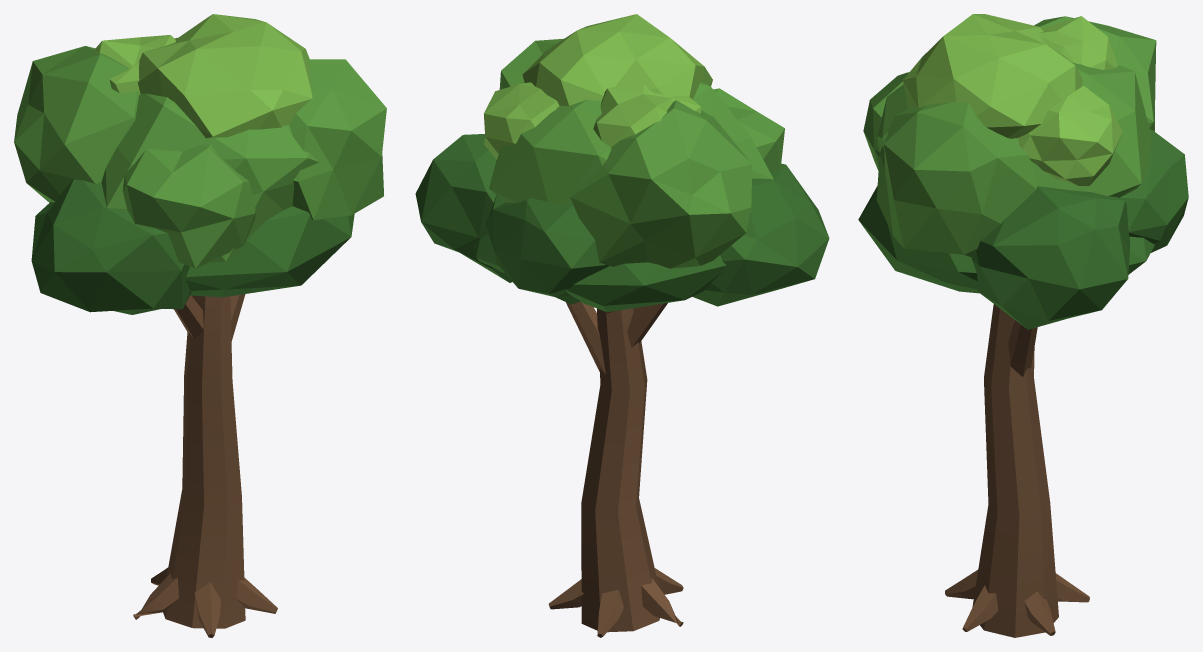
The model's file is tree-broadleaf.glb.
3 renders of one model, left to right at view 1: azimuth 30°, elevation 25°; view 2: azimuth 150°, elevation 25°; view 3: azimuth 270°, elevation 25°, orthographic. The views are drawn at different scales.
Visible parts, largest first — view 1: TreeBroadleaf_Leaves, TreeBroadleaf_LeavesDark, TreeBroadleaf_Bark, TreeBroadleaf_LeavesLight; view 2: TreeBroadleaf_Leaves, TreeBroadleaf_LeavesDark, TreeBroadleaf_Bark, TreeBroadleaf_LeavesLight; view 3: TreeBroadleaf_Leaves, TreeBroadleaf_LeavesDark, TreeBroadleaf_LeavesLight, TreeBroadleaf_Bark.
Part boxes in pixels (x1,y1,x2,y2): TreeBroadleaf_Leaves: [14, 38, 386, 268]; TreeBroadleaf_LeavesDark: [31, 179, 354, 314]; TreeBroadleaf_Bark: [133, 294, 277, 637]; TreeBroadleaf_LeavesLight: [93, 14, 312, 138]; TreeBroadleaf_Leaves: [489, 38, 784, 268]; TreeBroadleaf_LeavesDark: [415, 134, 829, 312]; TreeBroadleaf_Bark: [548, 302, 683, 637]; TreeBroadleaf_LeavesLight: [484, 14, 712, 159]; TreeBroadleaf_Leaves: [863, 16, 1156, 257]; TreeBroadleaf_LeavesDark: [858, 129, 1188, 329]; TreeBroadleaf_LeavesLight: [903, 14, 1122, 185]; TreeBroadleaf_Bark: [945, 304, 1089, 637].
Size of the model in its own units: 10.03 by 15.67 by 7.91.
